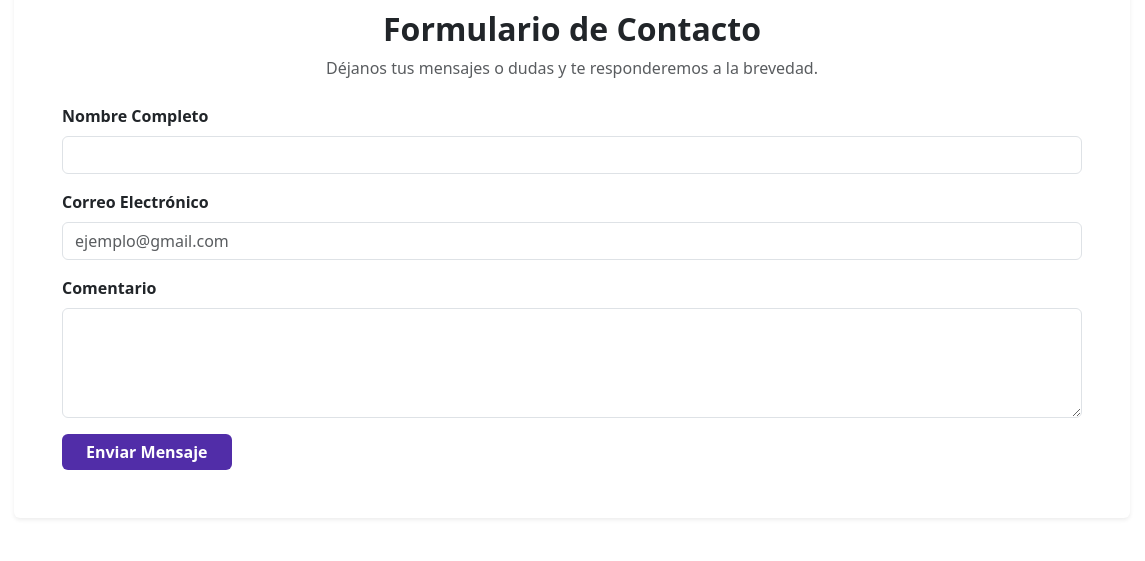
Test: pages/ContactoPage › con datos válidos muestra el mensaje de éxito y limpia el formulario
Type "Ana Soto" into the field labelled "Nombre Completo" at (572,155), box [62,136,1082,174]
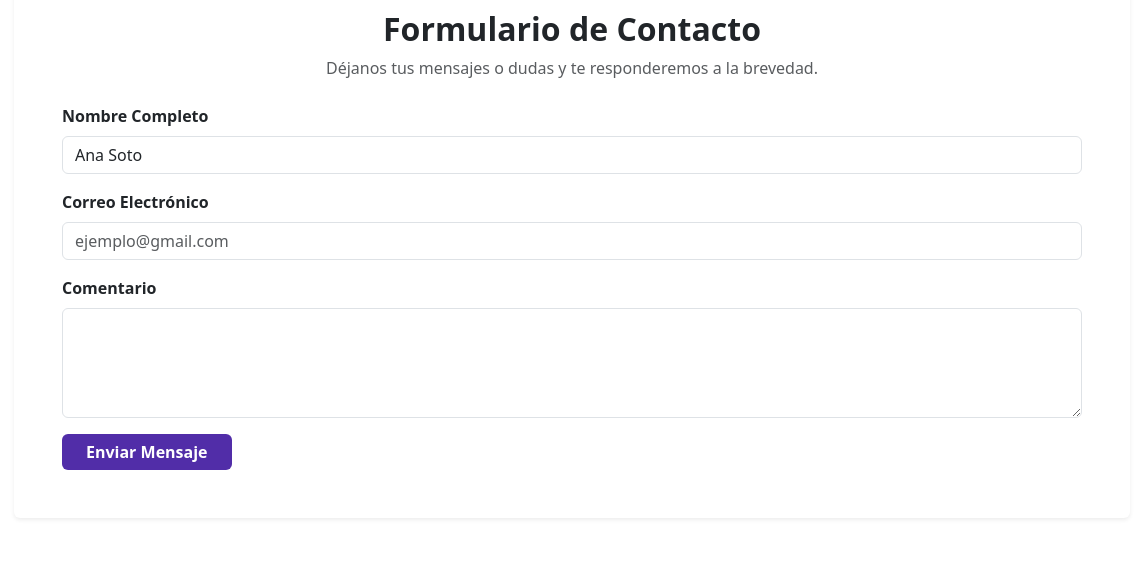
Type "ana@gmail.com" into the field labelled "Correo Electrónico" at (572,241), box [62,222,1082,260]
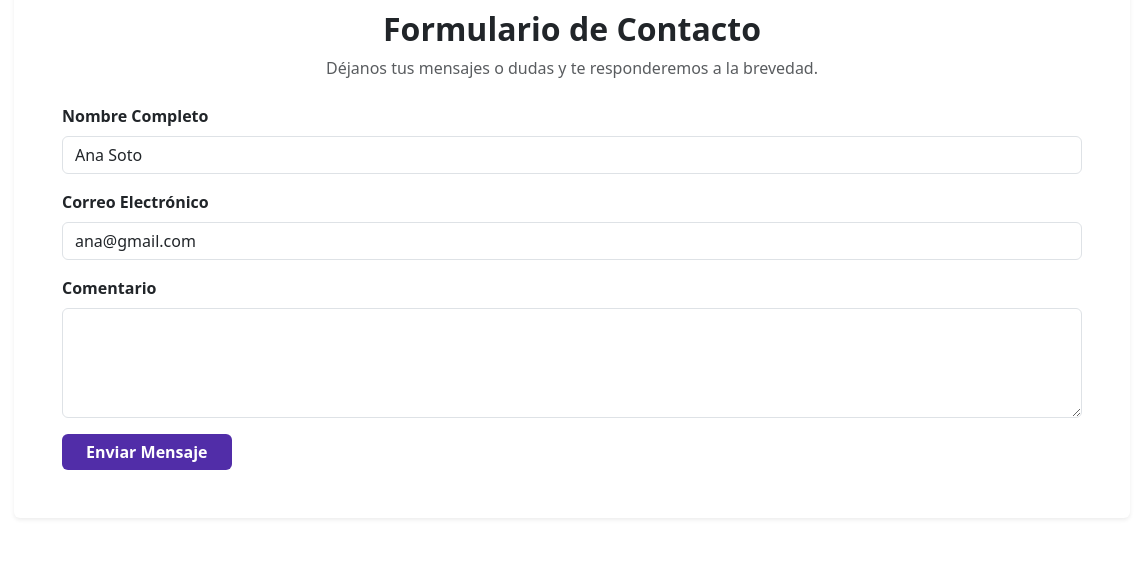
Type "Quiero información de las clases." into the text box labelled "Comentario" at (572,363), box [62,308,1082,418]
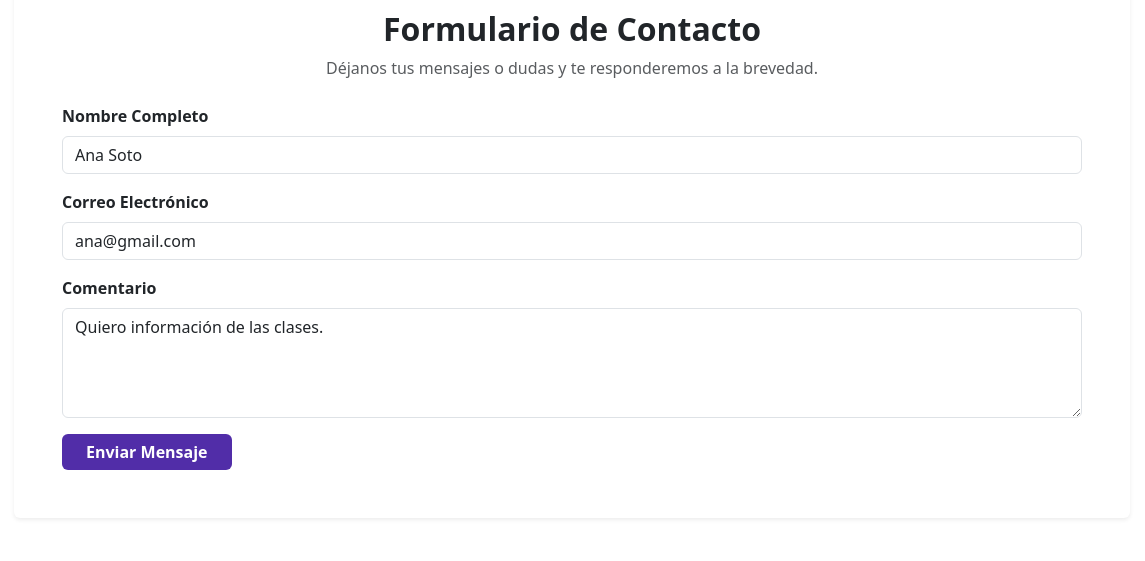
Click the button "Enviar Mensaje" at (147,452), box [62,434,232,470]
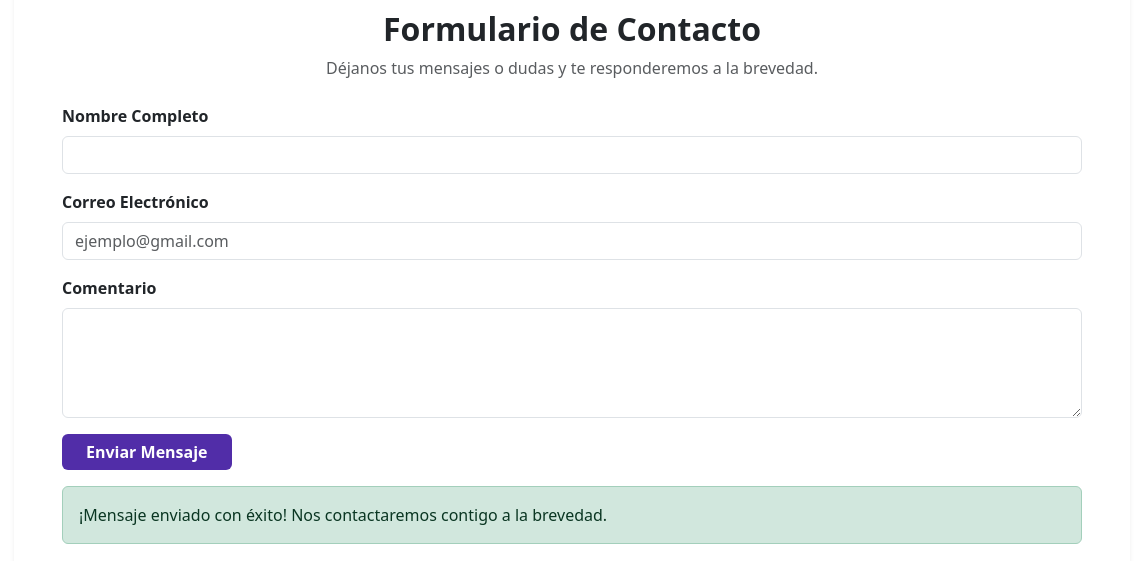
Expected: the text "Mensaje enviado con éxito" is shown, [79,504,607,526]
Expected: the field labelled "Nombre Completo" is empty, [62,136,1082,174]
Expected: the field labelled "Correo Electrónico" is empty, [62,222,1082,260]
